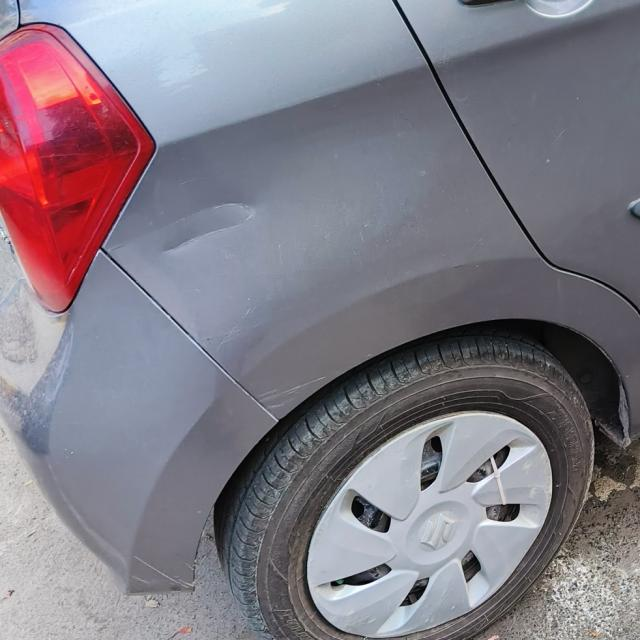scratch: (106, 188, 276, 273)
